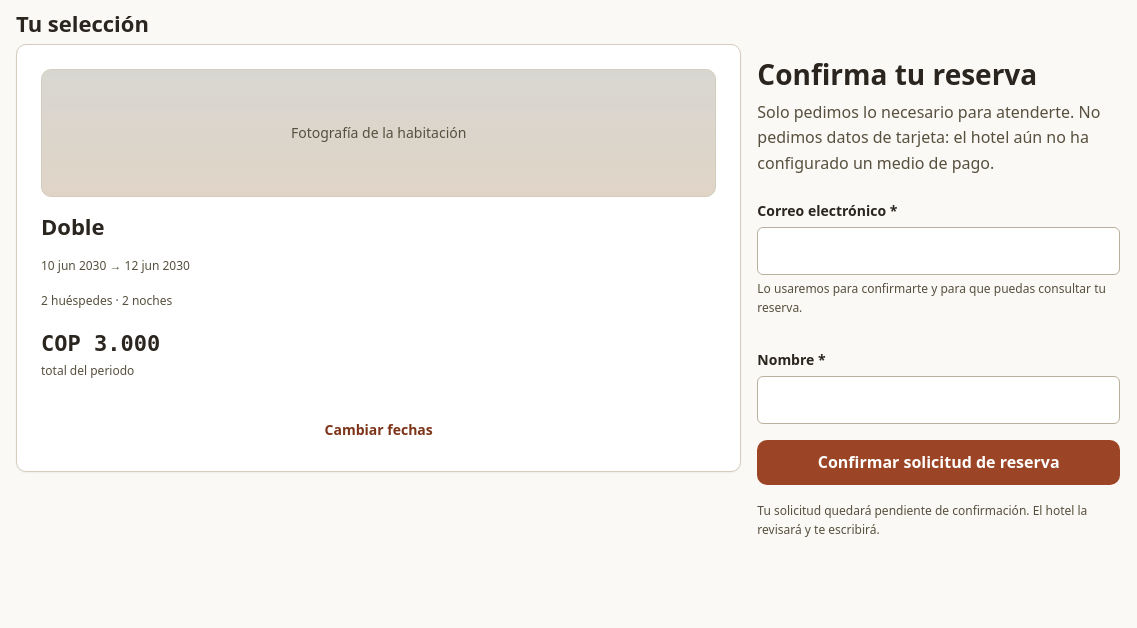
PaginaReserva › limpia el intento pendiente cuando la API rechaza la solicitud de forma definitiva
This screenshot has width=1137, height=628.
Type "ana@hotel.test" into the field labelled "Correo electrónico *" at (939, 251), box [757,227,1120,275]
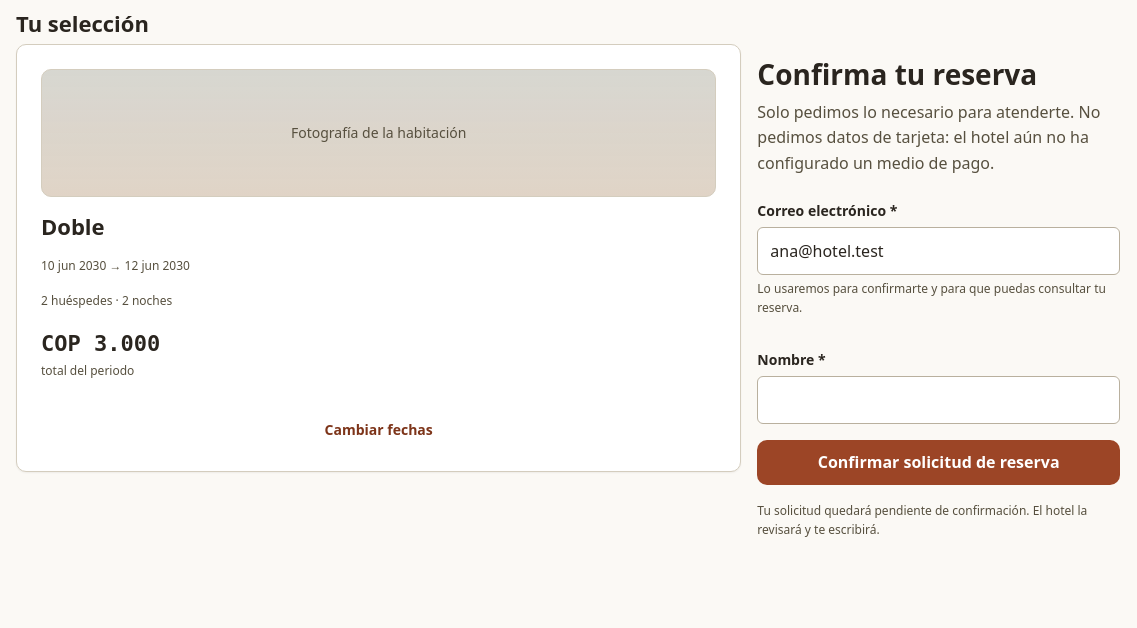
Type "Ana" into the field labelled "Nombre *" at (939, 400), box [757,376,1120,424]
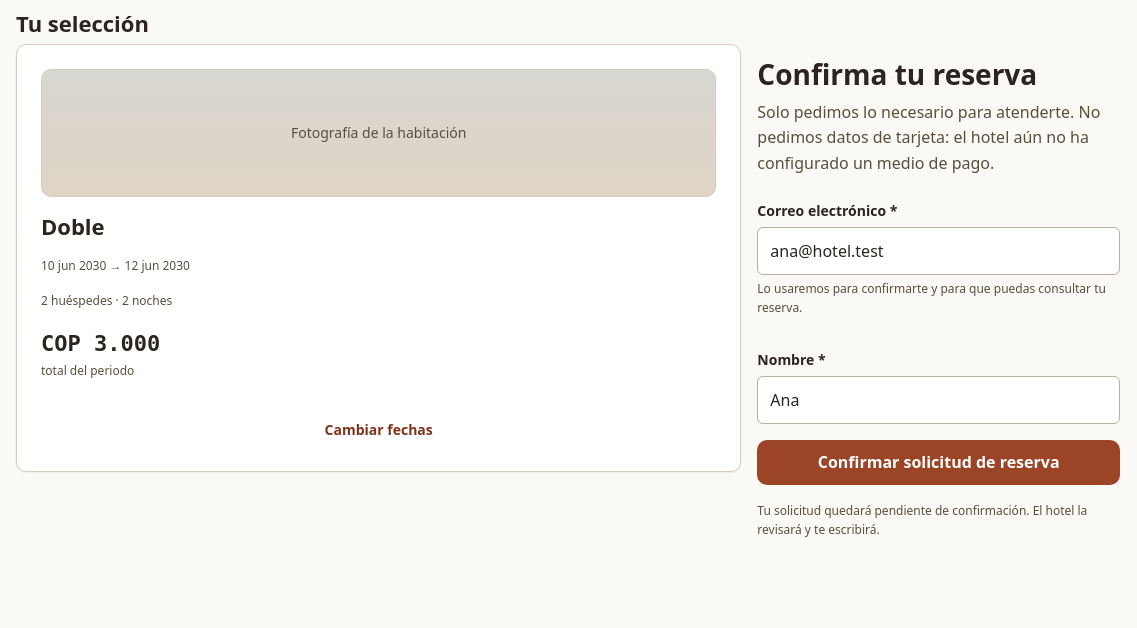
Click the button "Confirmar solicitud de reserva" at (939, 462), box [757,440,1120,485]
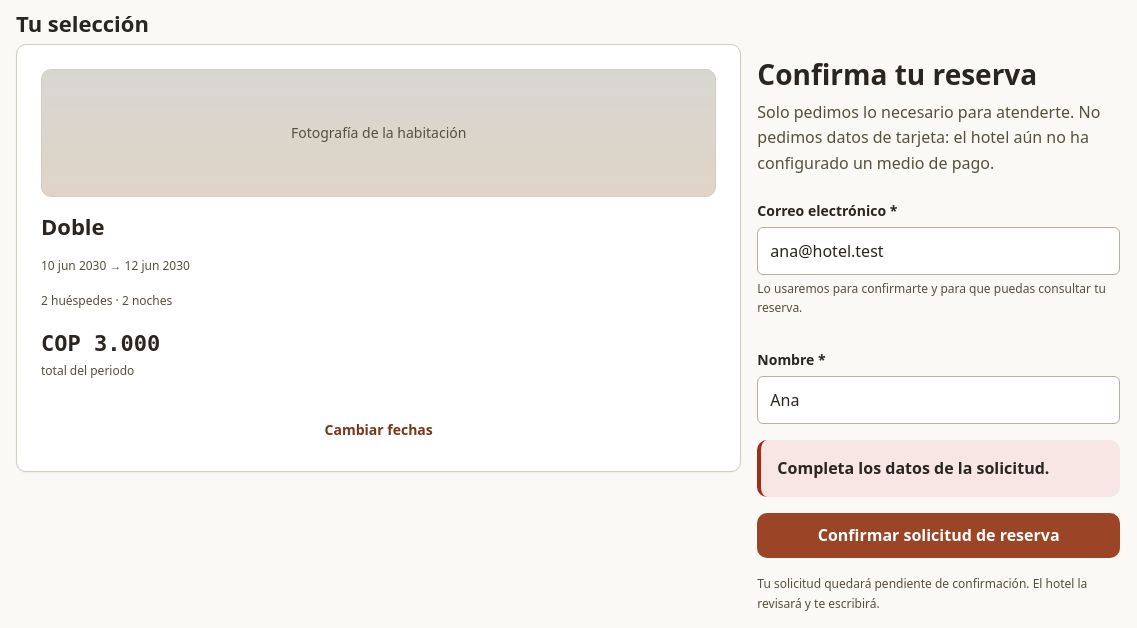
Check: the button "Confirmar solicitud de reserva" is shown, box [757,513,1120,558]
Check: the text "Completa los datos de la solicitud." is shown, box [777,456,1049,478]
